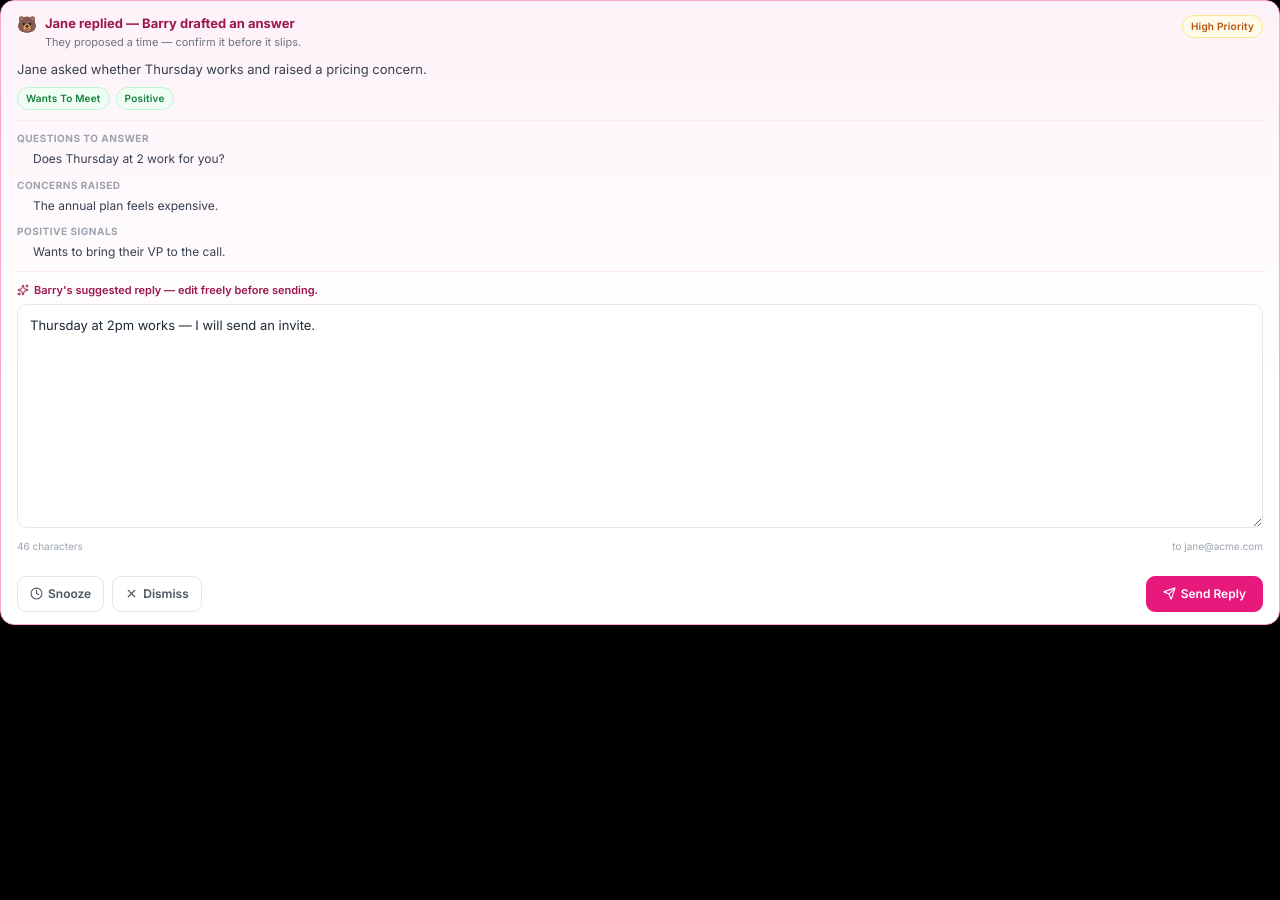
dismiss › requires a confirmation tap before doing anything
Click the button "Dismiss".
click(157, 594)  # box [112,576,202,612]
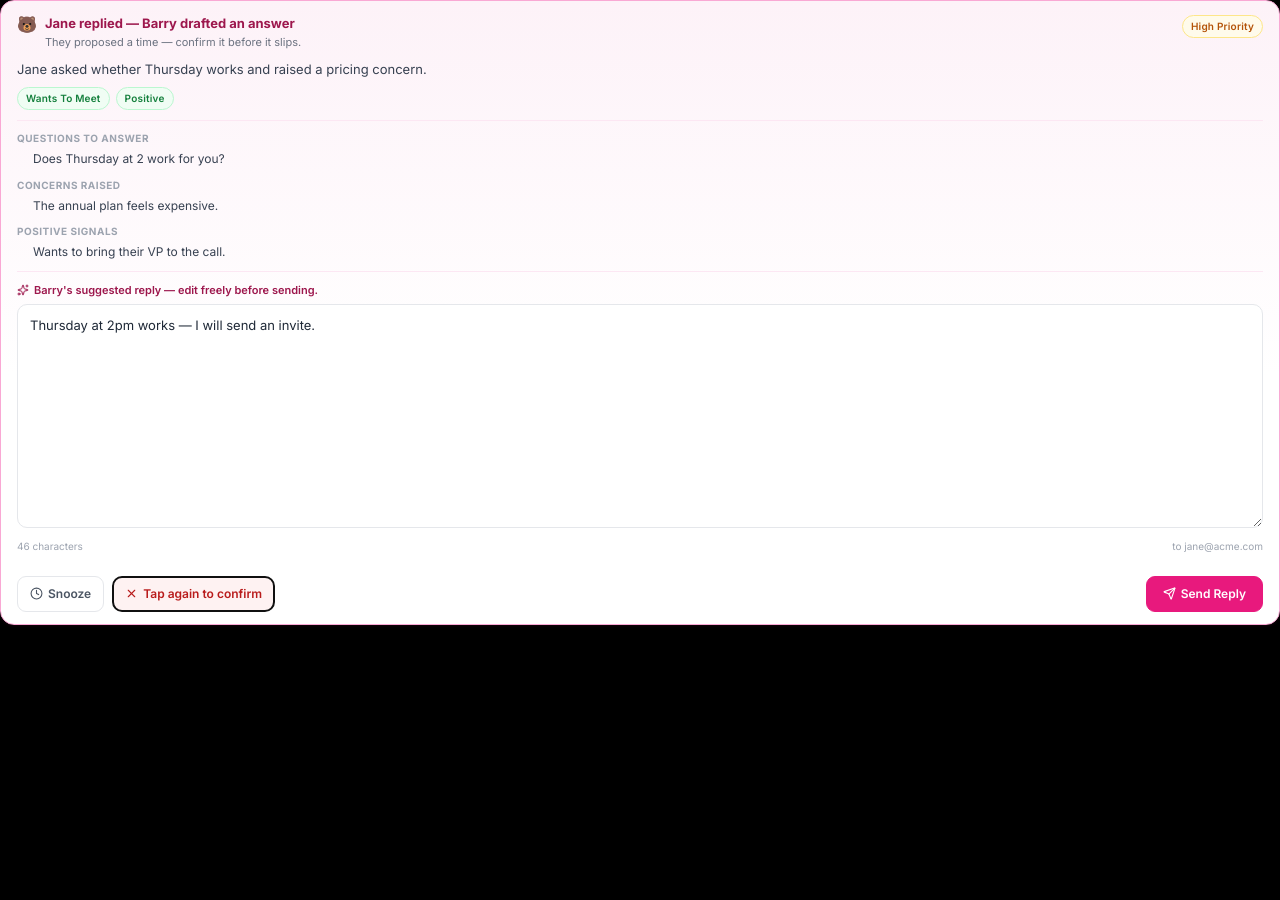
Expected: the button "Tap again to confirm" is shown, [112,576,275,612]
